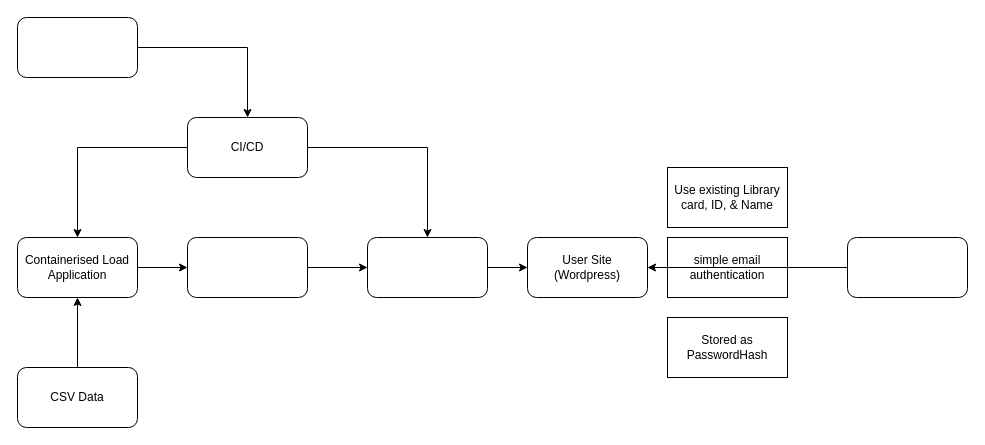
Image size: 985x445. Some labels were removed from this diagram. The centre of each missing label's shape, as x and y in pixels:
Flask APP: pixel 427 267
Source Code: pixel 77 47
SQL DataSorage: pixel 247 267
User Entity: pixel 907 267
